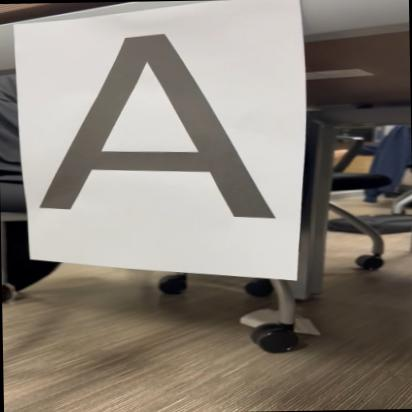seat: (25, 28, 285, 230)
